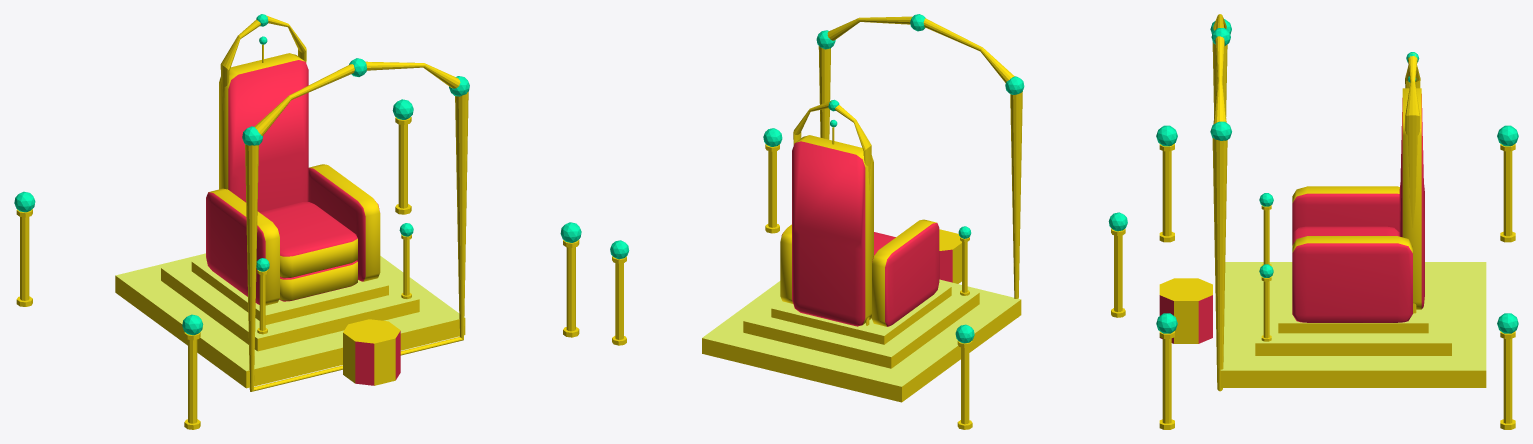
File: queenüst.obj
3 views of the same model, side by side, from view 1: azimuth 30°, elevation 25°; view 2: azimuth 150°, elevation 25°; view 3: azimuth 270°, elevation 25° (orthographic). The views are drawn at different scales.
Parts seen in each view (by area): view 1: Cube.139_pinkkkk, Cube.139_yellow, Cube.002_Cube.003_yellow, Cube.021_pinkkkk.001, Cube.021_yellow.002, Cube.022_pinkkkk.001, Cube.022_yellow, Cube.029_yellow, Cube.023_yellow, Cube.023_pinkkkk.001, Cube.029_pinkkkk, Cube.027_yellow (+4 smaller); view 2: Cube.139_pinkkkk, Cube.021_pinkkkk.001, Cube.021_yellow.002, Cube.002_Cube.003_yellow, Cube.139_yellow, Cube.022_pinkkkk.001, Cube.022_yellow, Cube.023_yellow, Cube.023_pinkkkk.001, Cube.002_Cube.002_yellow, Cube.027_yellow, Cube.024_yellow (+3 smaller); view 3: Cube.139_pinkkkk, Cube.021_pinkkkk.001, Cube.022_pinkkkk.001, Cube.021_yellow.002, Cube.139_yellow, Cube.002_Cube.003_yellow, Cube.022_yellow, Cube.029_yellow, Cube.002_Cube.002_yellow, Cube.023_yellow, Cube.023_pinkkkk.001, Cube.028_yellow (+11 smaller).
Boxes of the visible parts, x1,y1,x2,y2 form: Cube.139_pinkkkk: (206, 60, 379, 304); Cube.139_yellow: (208, 53, 380, 305); Cube.002_Cube.003_yellow: (245, 61, 468, 391); Cube.021_pinkkkk.001: (115, 253, 464, 371); Cube.021_yellow.002: (115, 275, 465, 388); Cube.022_pinkkkk.001: (161, 257, 419, 338); Cube.022_yellow: (161, 268, 419, 351); Cube.029_yellow: (343, 319, 400, 385); Cube.023_yellow: (191, 262, 388, 324); Cube.023_pinkkkk.001: (192, 258, 388, 315); Cube.029_pinkkkk: (355, 331, 400, 385); Cube.027_yellow: (16, 209, 32, 306); Cube.139_pinkkkk: (781, 141, 939, 326); Cube.021_pinkkkk.001: (702, 279, 1020, 386); Cube.021_yellow.002: (702, 300, 1021, 402); Cube.002_Cube.003_yellow: (818, 16, 1022, 298); Cube.139_yellow: (780, 135, 936, 326); Cube.022_pinkkkk.001: (744, 282, 979, 356); Cube.022_yellow: (743, 293, 979, 368); Cube.023_yellow: (771, 287, 951, 344); Cube.023_pinkkkk.001: (771, 283, 951, 335); Cube.002_Cube.002_yellow: (793, 101, 871, 325); Cube.027_yellow: (957, 341, 972, 429); Cube.024_yellow: (1111, 228, 1125, 317); Cube.139_pinkkkk: (1292, 94, 1424, 322); Cube.021_pinkkkk.001: (1220, 262, 1486, 370); Cube.022_pinkkkk.001: (1255, 263, 1451, 343); Cube.021_yellow.002: (1220, 370, 1486, 387); Cube.139_yellow: (1292, 88, 1421, 309); Cube.002_Cube.003_yellow: (1212, 14, 1227, 391); Cube.022_yellow: (1255, 343, 1451, 355); Cube.029_yellow: (1159, 278, 1212, 343); Cube.002_Cube.002_yellow: (1405, 53, 1420, 313); Cube.023_yellow: (1278, 323, 1428, 333); Cube.023_pinkkkk.001: (1278, 262, 1428, 323); Cube.028_yellow: (1500, 331, 1515, 429).
Size of the model in its own units: 137 by 101 by 107.
